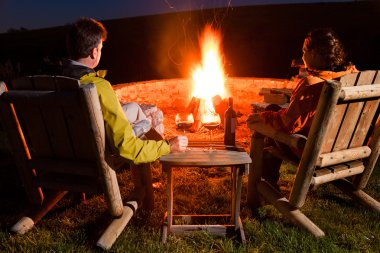fire: (187, 26, 230, 123)
